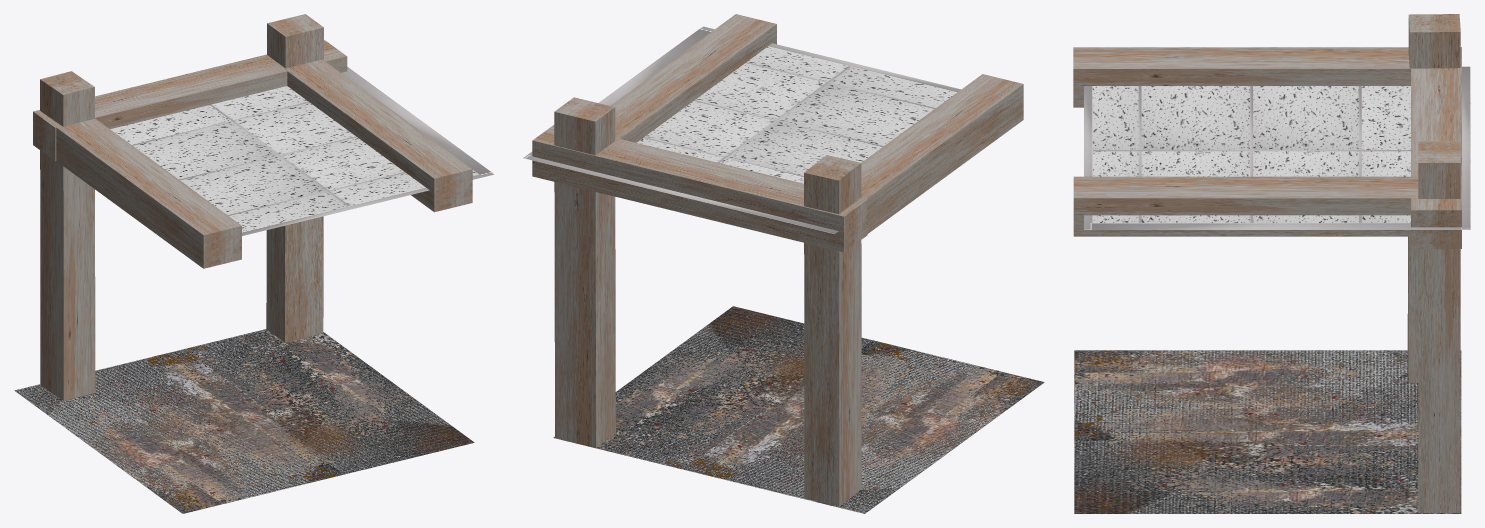
File: level_3_base.gltf
The picture shows the model from 3 angles, left to right: view 1: azimuth 30°, elevation 25°; view 2: azimuth 150°, elevation 25°; view 3: azimuth 270°, elevation 25°; orthographic projection. The views are drawn at different scales.
Visible parts, largest first — view 1: floor_front, cieling_front, center_pillar_left, front_left_support_beam, front_left_support_beam.001, center_pillar_right, front_left_support_beam.002; view 2: floor_front, cieling_front, center_pillar_right, center_pillar_left, front_left_support_beam.002, front_left_support_beam, front_left_support_beam.001; view 3: floor_front, cieling_front, front_left_support_beam.001, center_pillar_right, front_left_support_beam, front_left_support_beam.002, center_pillar_left.
Boxes of the visible parts, x1=… form: floor_front: x1=14, y1=329, x2=474, y2=513; cieling_front: x1=110, y1=67, x2=494, y2=235; center_pillar_left: x1=40, y1=71, x2=95, y2=400; front_left_support_beam: x1=38, y1=112, x2=241, y2=268; front_left_support_beam.001: x1=266, y1=55, x2=472, y2=212; center_pillar_right: x1=266, y1=14, x2=323, y2=342; front_left_support_beam.002: x1=33, y1=40, x2=347, y2=161; floor_front: x1=553, y1=306, x2=1044, y2=513; cieling_front: x1=523, y1=26, x2=961, y2=233; center_pillar_right: x1=554, y1=97, x2=615, y2=447; center_pillar_left: x1=804, y1=155, x2=861, y2=506; front_left_support_beam.002: x1=532, y1=125, x2=867, y2=252; front_left_support_beam: x1=803, y1=74, x2=1023, y2=233; front_left_support_beam.001: x1=596, y1=14, x2=776, y2=155; floor_front: x1=1074, y1=350, x2=1461, y2=513; cieling_front: x1=1084, y1=66, x2=1470, y2=229; front_left_support_beam.001: x1=1073, y1=176, x2=1418, y2=236; center_pillar_right: x1=1418, y1=141, x2=1460, y2=512; front_left_support_beam: x1=1073, y1=47, x2=1410, y2=107; front_left_support_beam.002: x1=1411, y1=47, x2=1461, y2=248; center_pillar_left: x1=1407, y1=14, x2=1460, y2=382.
Size of the model in its own units: 2.16 by 2 by 2.05.
3 materials, 3 textured.
